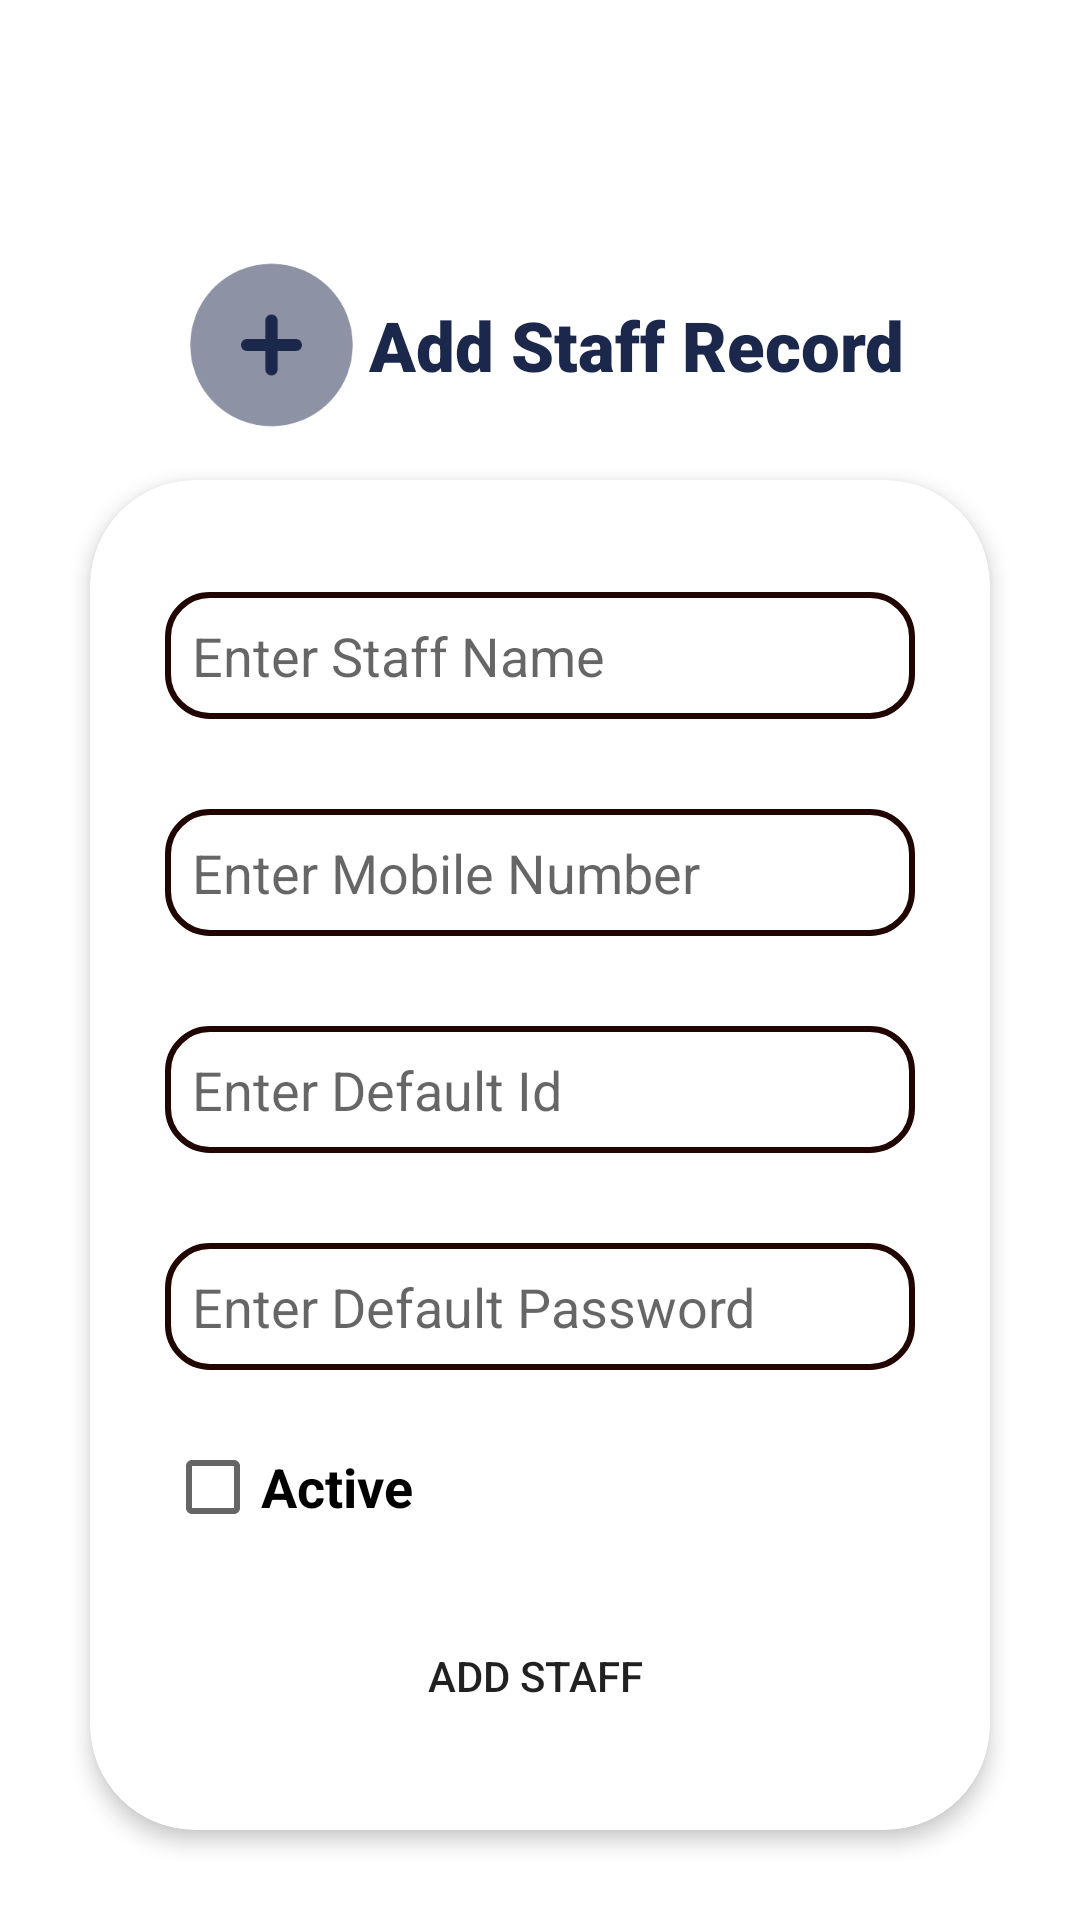

Screen size 1080 × 1920. Icon name, then its center in pixels as (x=x, y=y):
addicon: (x=271, y=345)
